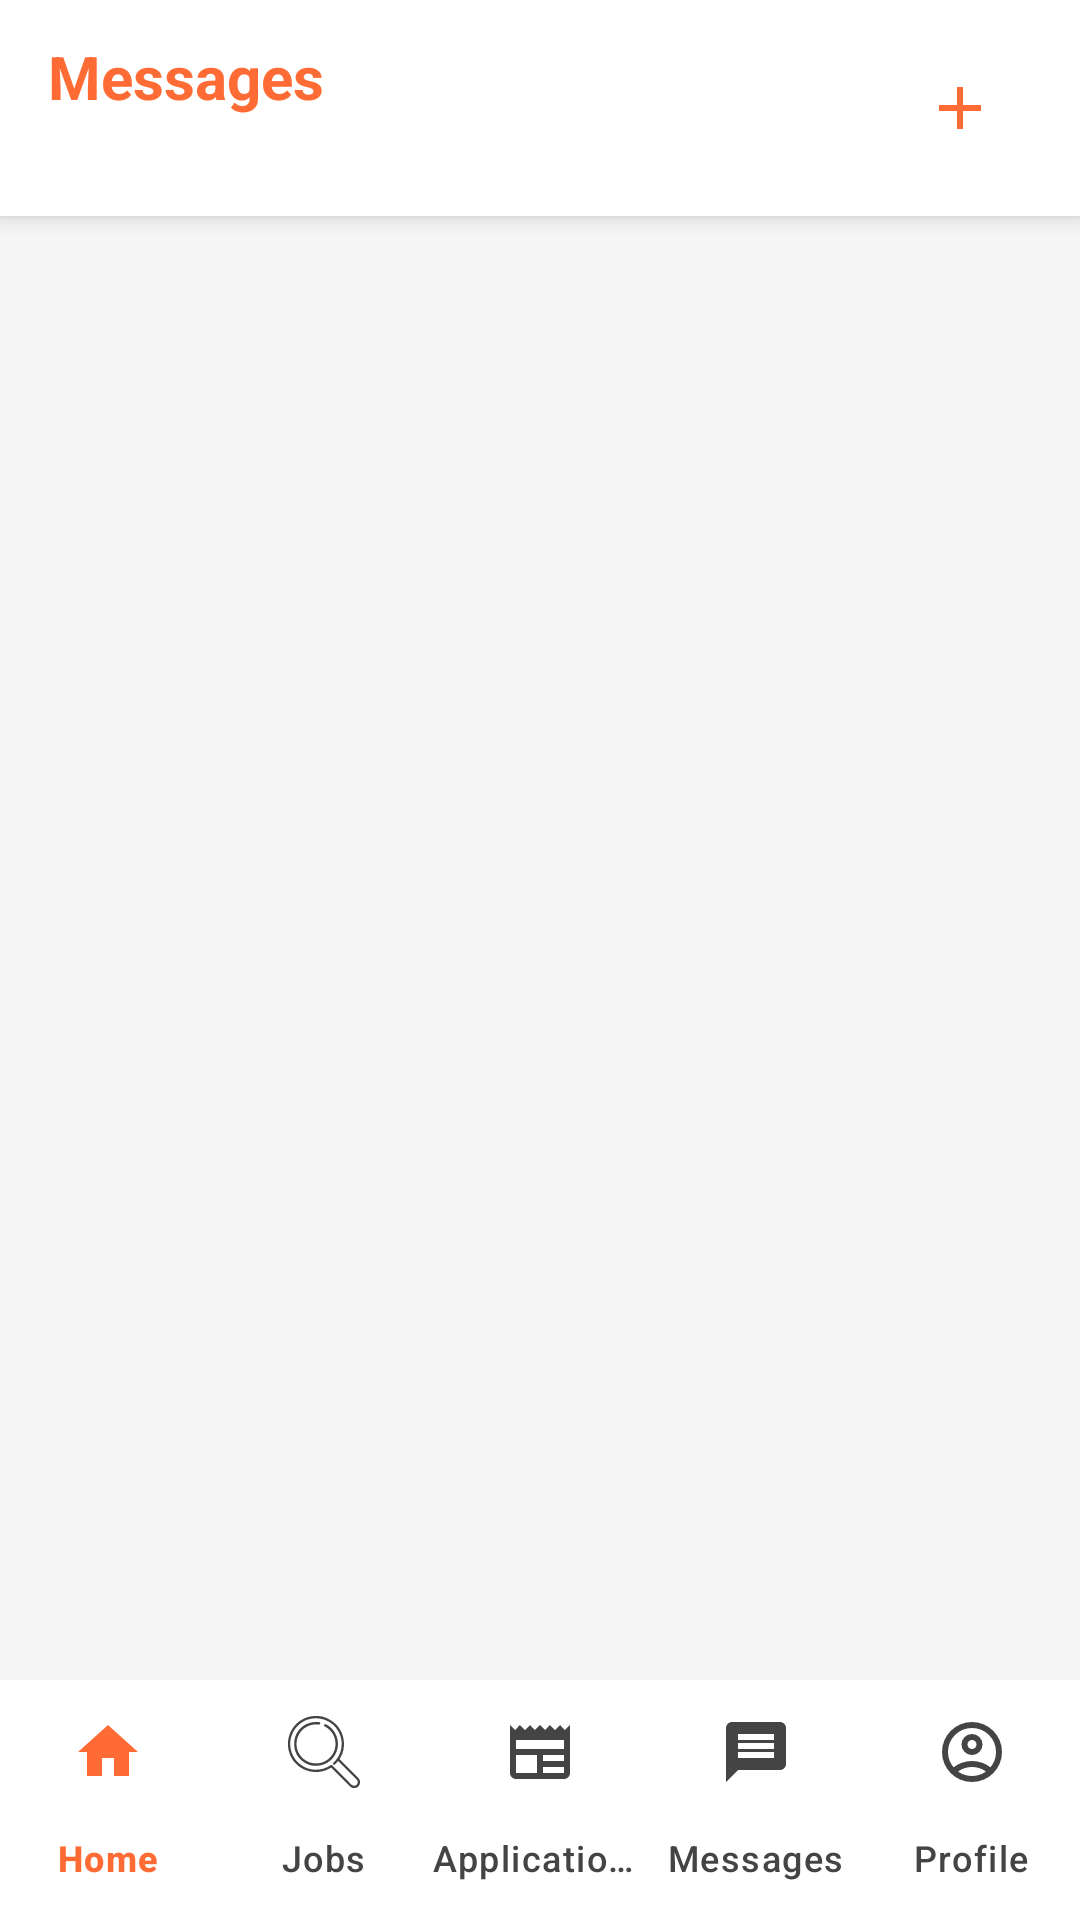

Named icons in this screenshot (1080 x 1920) and their bounding boxes, (x1, y1, x2, y2):
New message: (939, 87, 981, 129)
